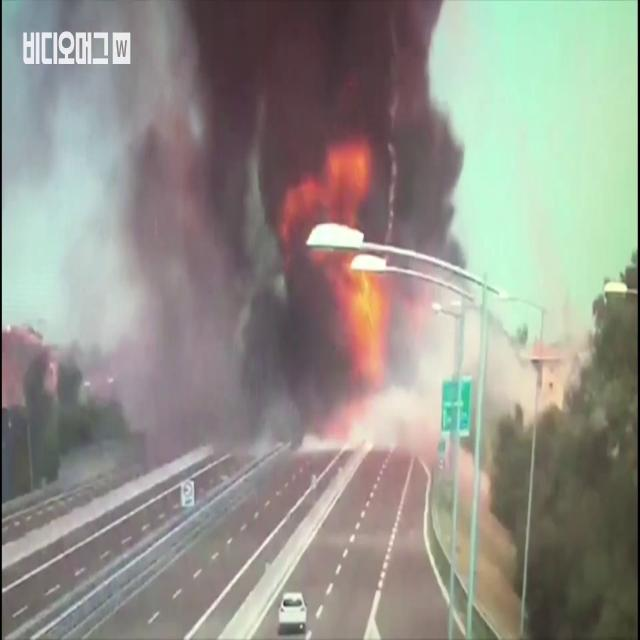explosion: (134, 7, 483, 477)
